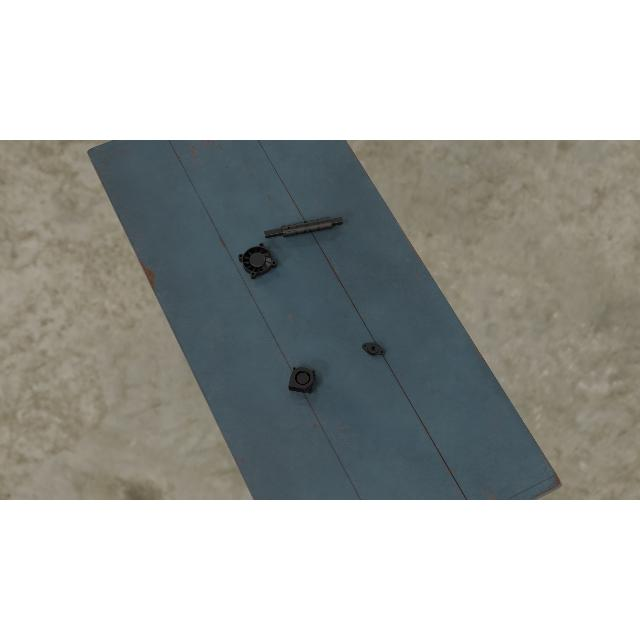Pieza1: (264, 213, 344, 243)
Pieza2: (359, 339, 386, 359)
Pieza3: (288, 366, 316, 394)
Pieza4: (238, 242, 278, 280)
